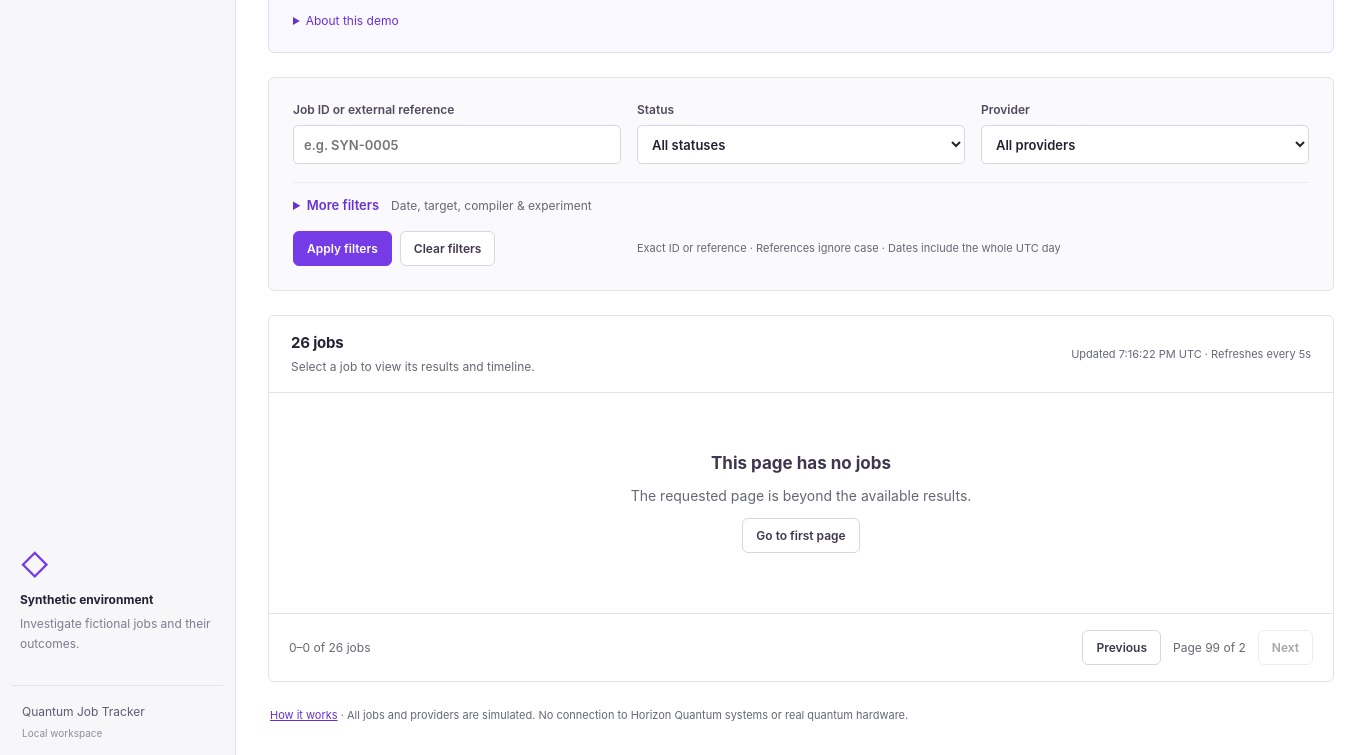
Test: jobs page › offers recovery when the requested page is out of range
The width and height of the screenshot is (1366, 755).
(page scrolled)
Expected: the heading "This page has no jobs" is shown, [711,452,891,472]
Click the button "Go to first page" at (801, 535), box [742,518,860,552]
(page scrolled)
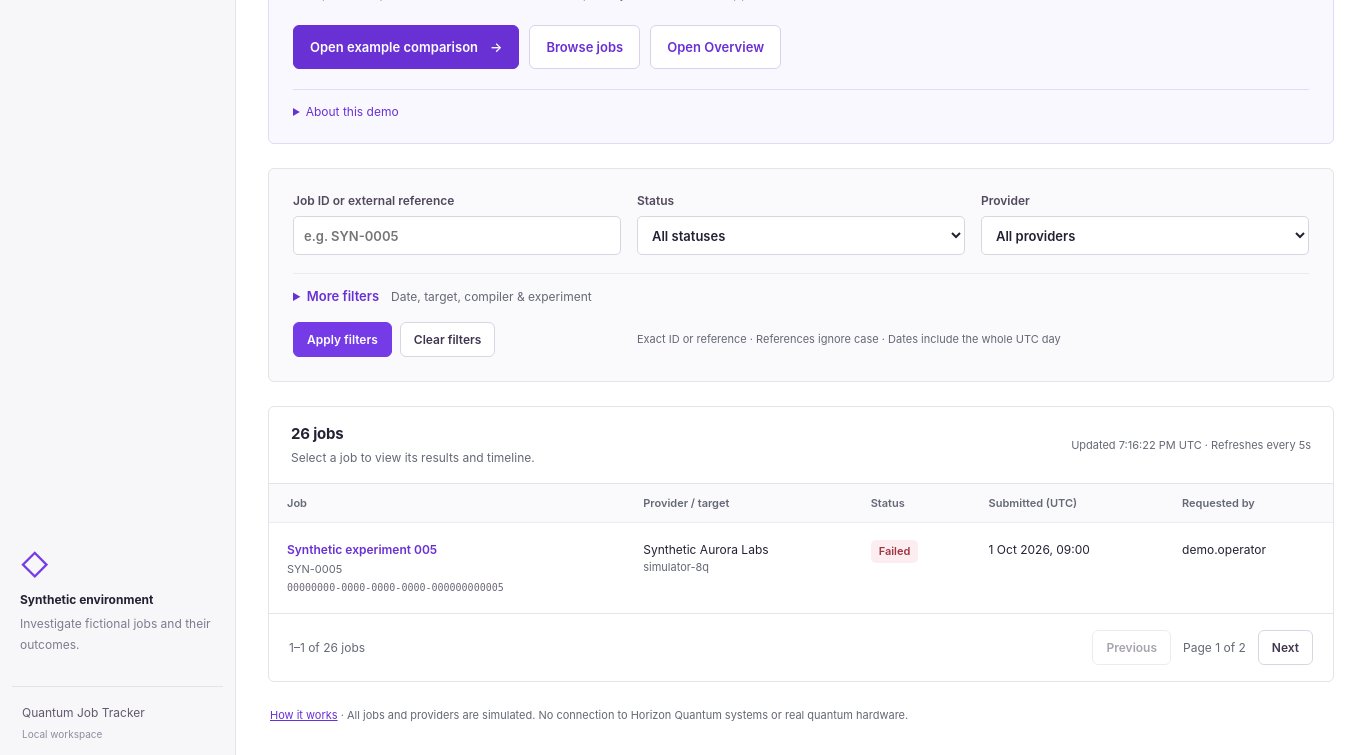
Now the table is shown, box [269,484,1333,613]
